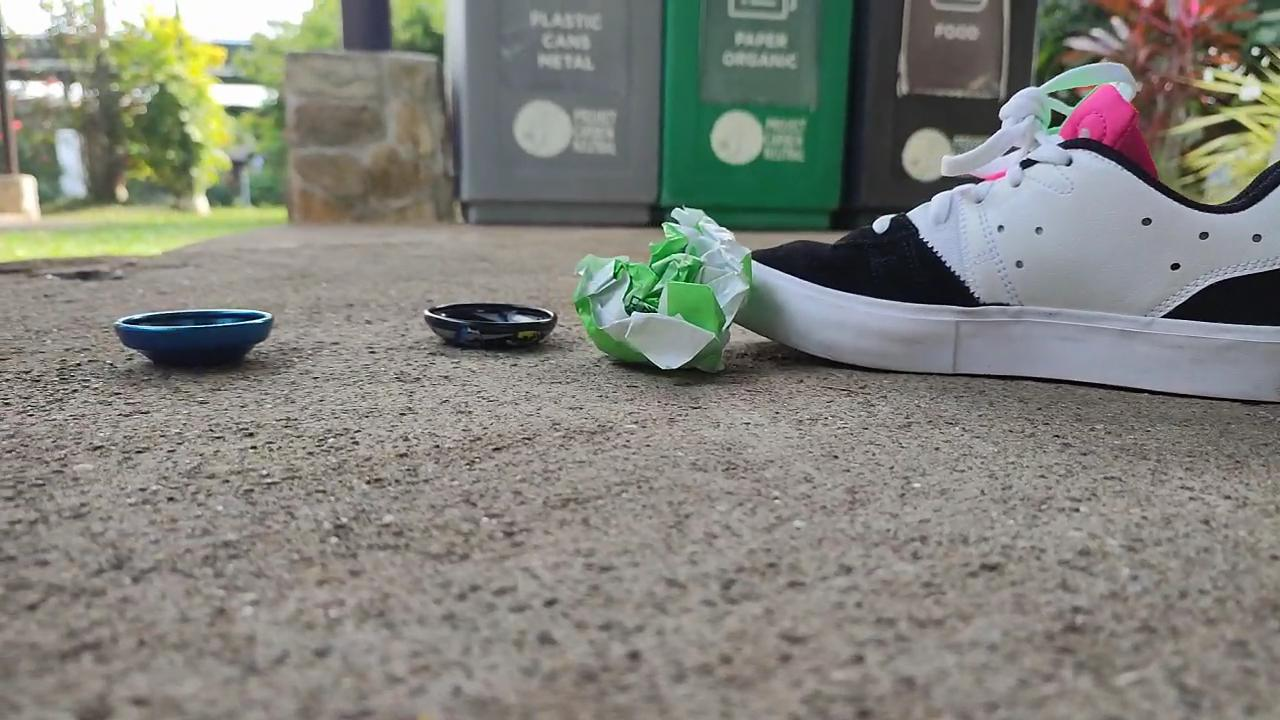Paper: (569, 187, 761, 376)
